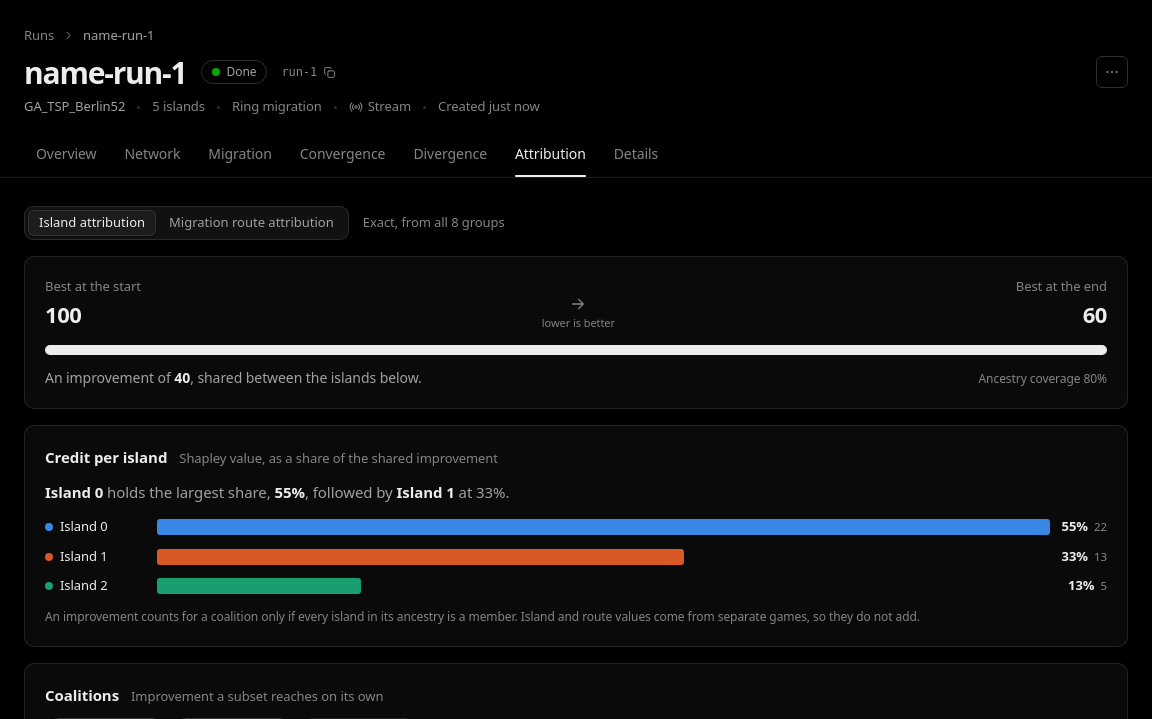
AttributionTab › shares route credit out of only the improvement that needed migrants
Click the button "Migration route attribution" at {"x": 251, "y": 223}, box left=158, top=210, right=345, bottom=236
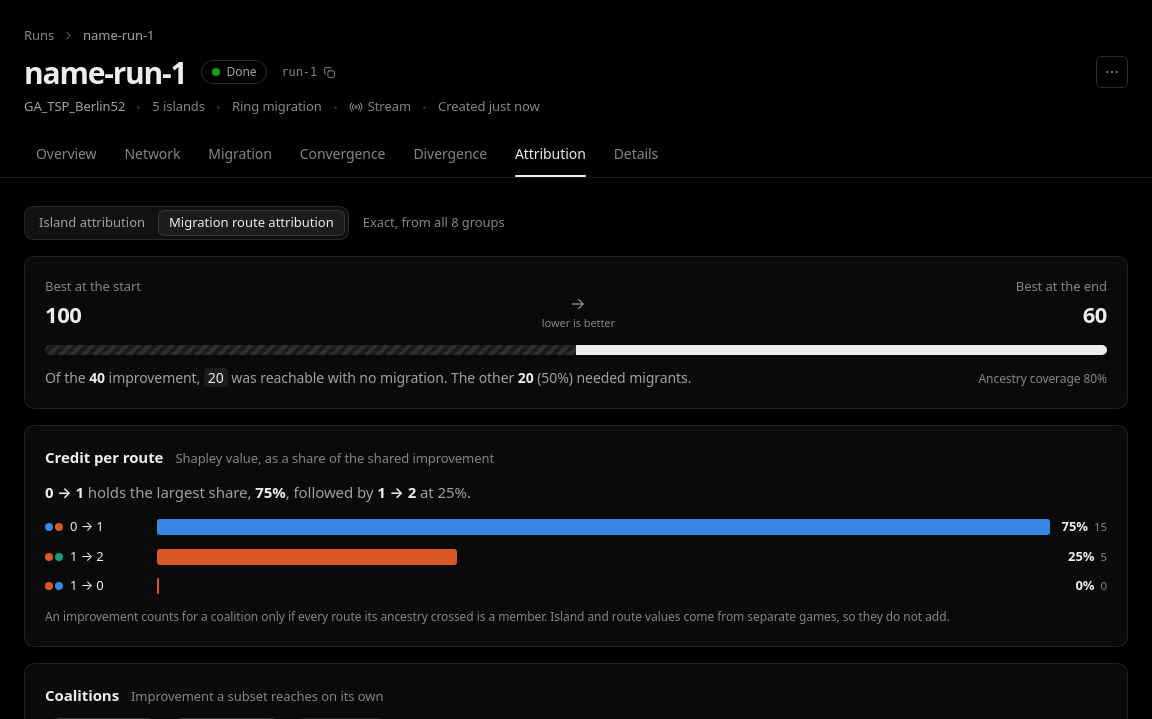
Now the element with class "shared-text" shows "The other 20 (50%) needed migrants", box left=45, top=368, right=691, bottom=387
